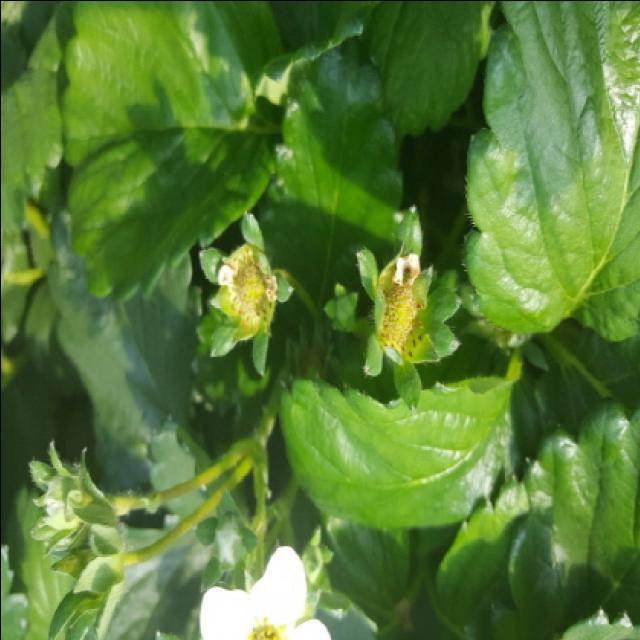Blossom Blight: (375, 264, 428, 356), (226, 248, 277, 326)
